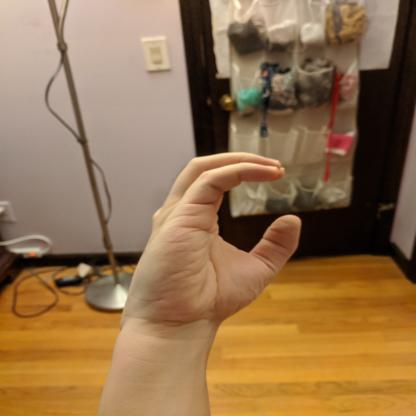C: (120, 148, 306, 330)
